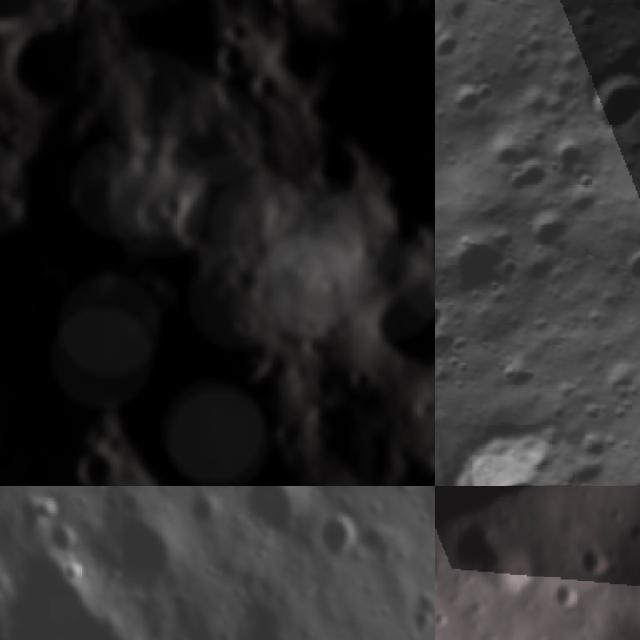crater: (330, 253, 435, 404), (0, 3, 113, 136), (461, 394, 617, 486), (153, 157, 270, 270), (284, 123, 386, 220), (435, 212, 526, 310), (450, 516, 550, 598), (561, 47, 640, 149), (195, 51, 289, 133), (108, 510, 189, 604), (228, 486, 314, 547), (53, 427, 141, 486), (200, 27, 267, 89), (508, 201, 571, 265), (494, 146, 556, 211), (564, 418, 626, 479), (539, 128, 597, 186), (572, 530, 632, 580), (437, 72, 491, 126), (314, 510, 362, 568), (493, 351, 544, 402), (212, 5, 263, 53), (435, 19, 477, 74), (559, 0, 605, 42), (611, 232, 640, 296), (547, 572, 590, 613), (54, 556, 94, 590), (42, 524, 80, 558), (435, 287, 454, 349), (613, 0, 640, 24), (535, 632, 571, 640)
